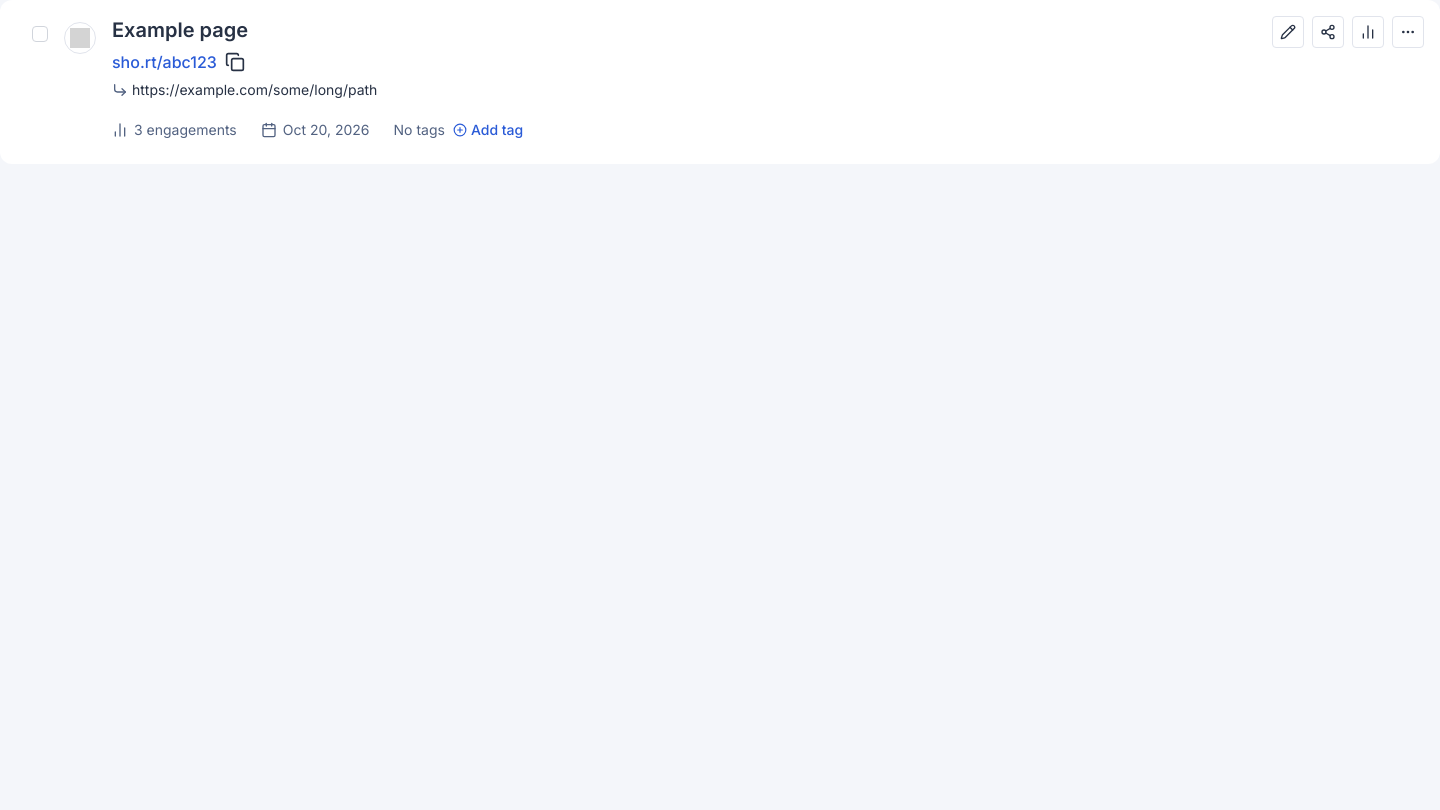
LinkCard › delete confirmation copy without a QR Code
Click the button named "More" at (1408, 32), box [1392,16,1424,48]
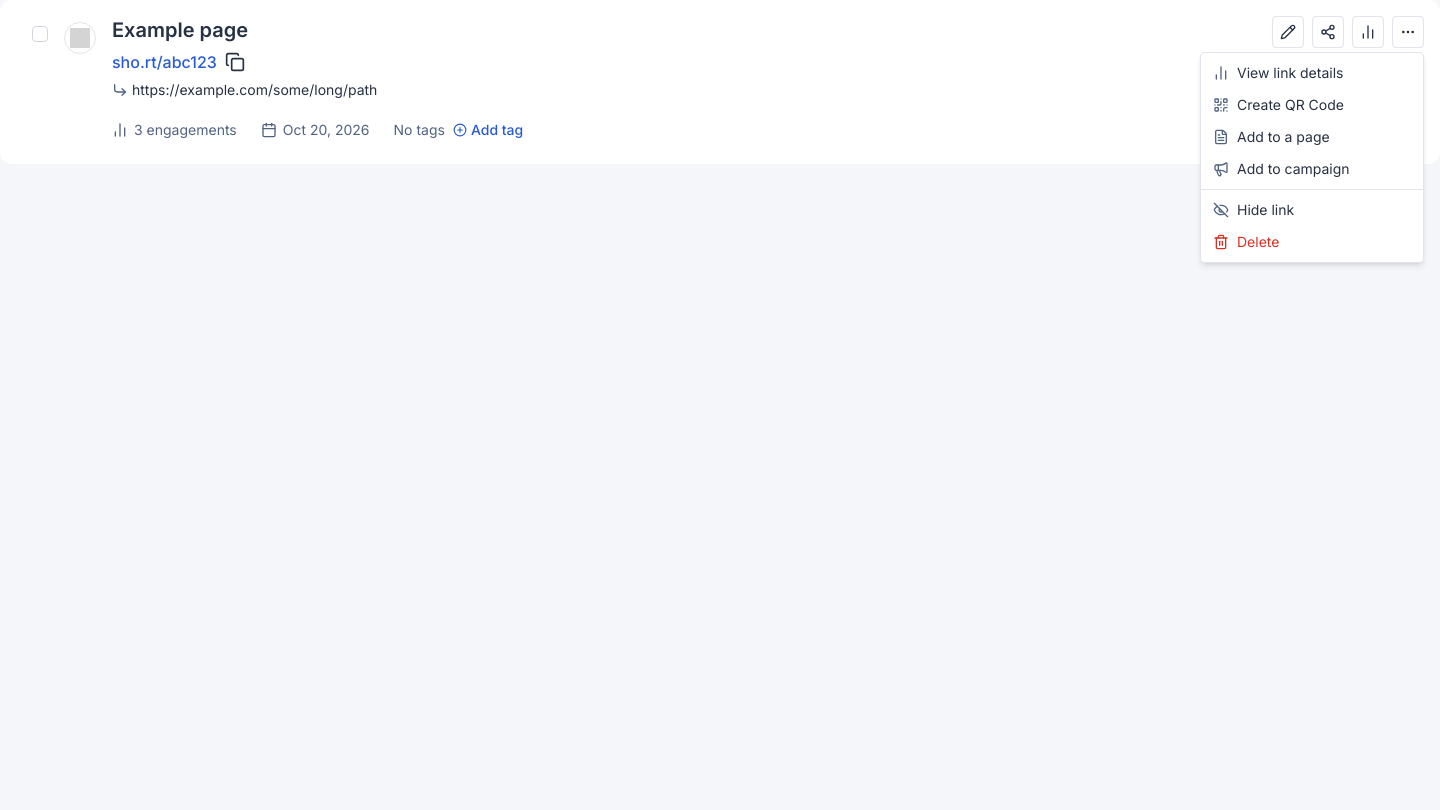
Click the menu item "Delete" at (1246, 242), box [1213,233,1279,250]
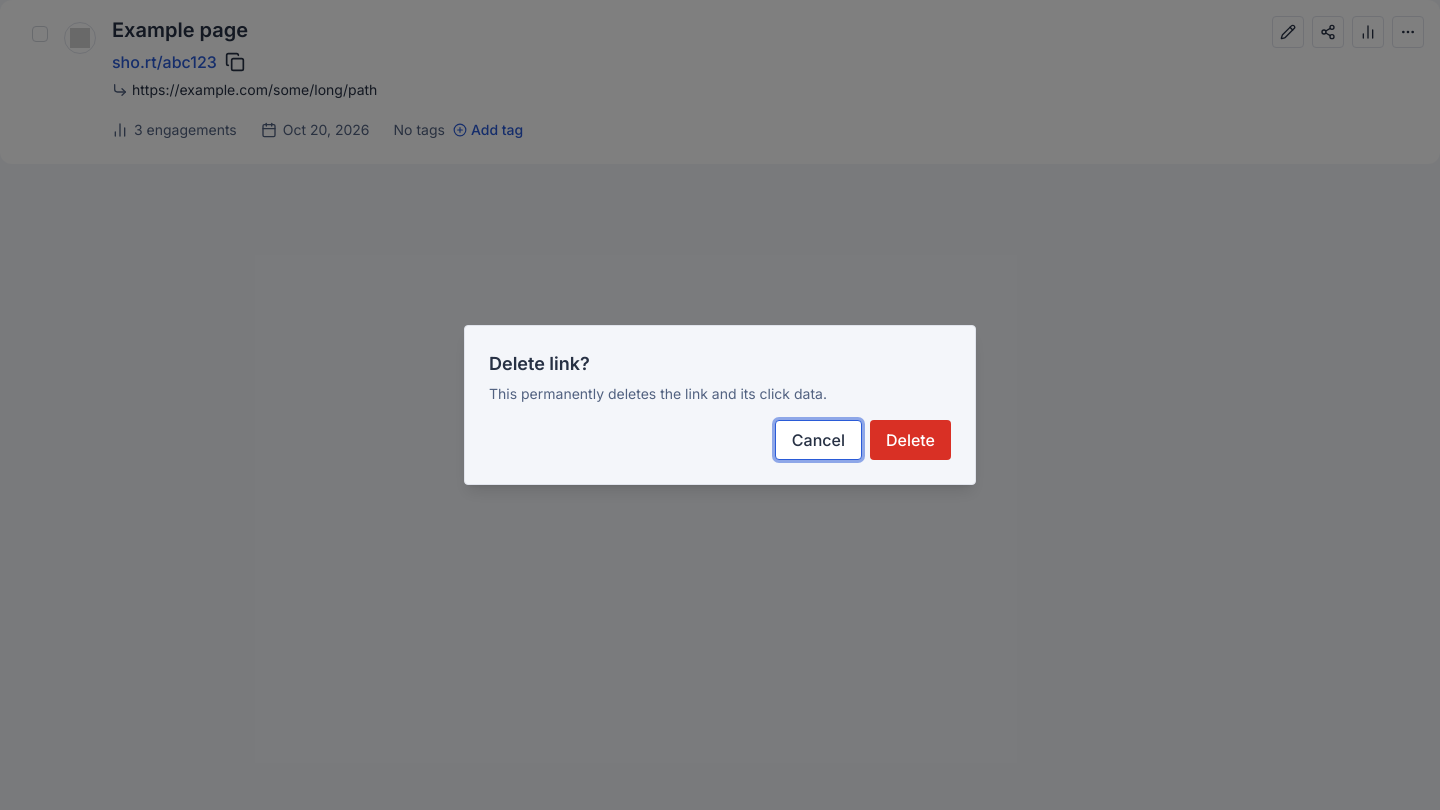
expect the text "This permanently deletes the link and its click data." is shown: met, box [489,384,827,404]
